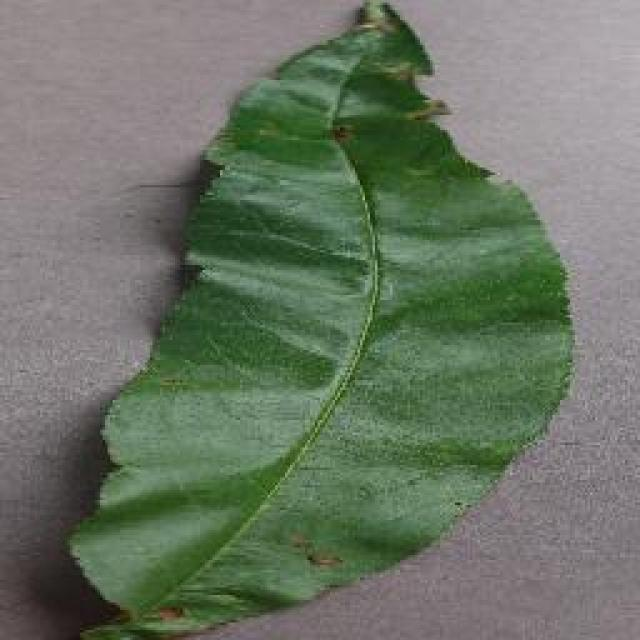Peach_Bacterial_Spot: (222, 33, 480, 250)
